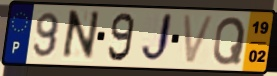9: (107, 11, 137, 63), (34, 11, 61, 60)
J: (139, 11, 176, 66)
N: (59, 9, 102, 63)
Q: (211, 15, 248, 67)
V: (180, 13, 217, 66)
